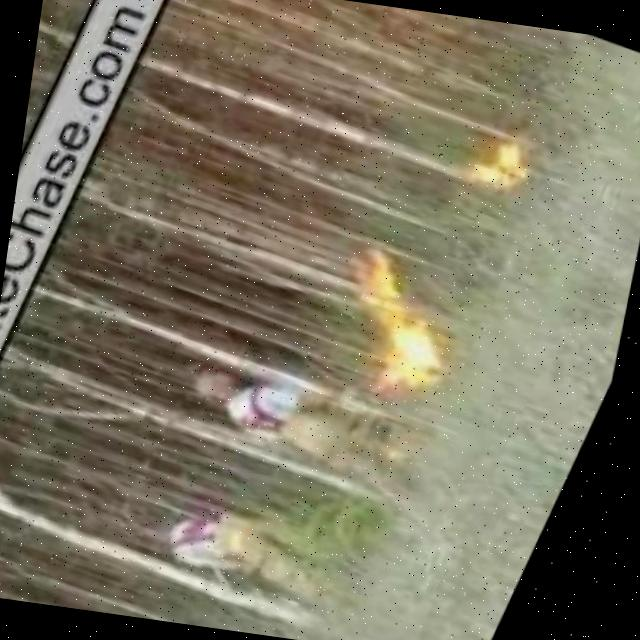fire: (315, 229, 485, 414), (469, 129, 539, 199)
